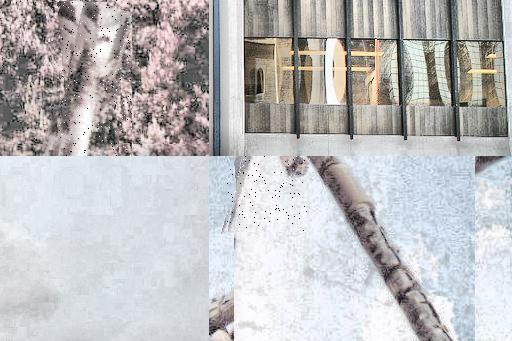tanks: (308, 157, 451, 341), (64, 1, 133, 157), (228, 157, 253, 233), (280, 157, 310, 176)
